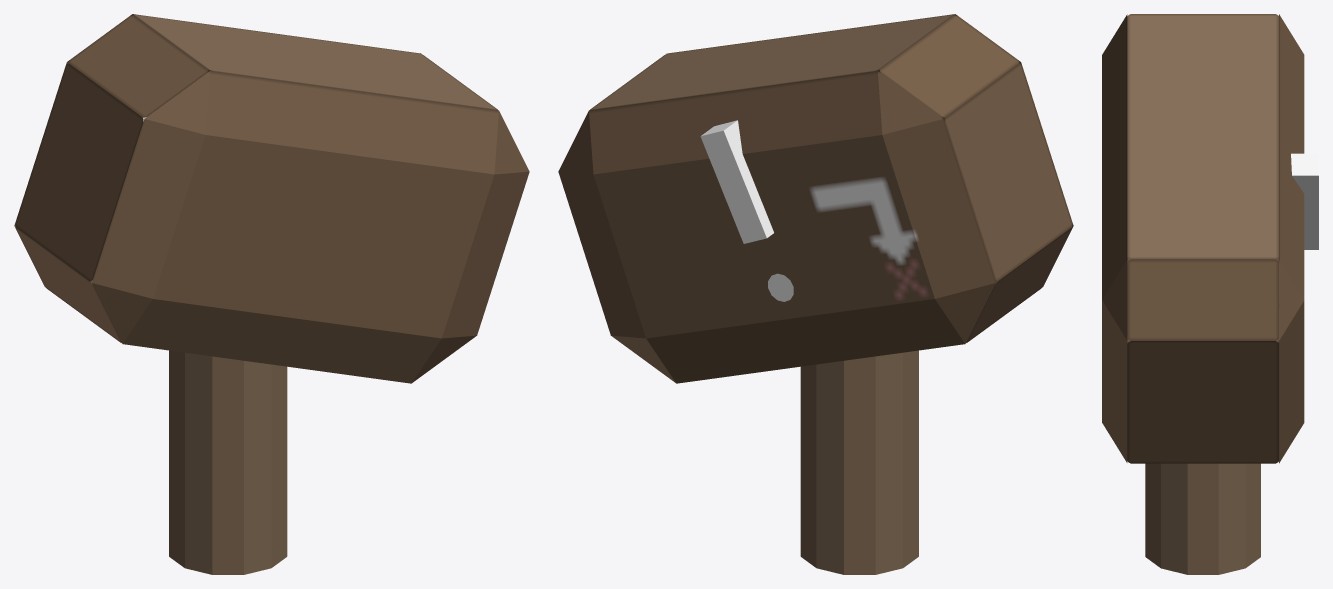
3 renders of one model, left to right at view 1: azimuth 30°, elevation 25°; view 2: azimuth 150°, elevation 25°; view 3: azimuth 270°, elevation 25°, orthographic. The views are drawn at different scales.
Parts seen in each view (by area): view 1: beveled_cuboid, cylinder; view 2: beveled_cuboid, cylinder, mesh; view 3: beveled_cuboid, cylinder, mesh.
Boxes of the visible parts, bbox=[...] form: beveled_cuboid: bbox=[14, 14, 529, 383]; cylinder: bbox=[169, 350, 287, 574]; beveled_cuboid: bbox=[558, 14, 1073, 383]; cylinder: bbox=[800, 350, 918, 574]; mesh: bbox=[700, 120, 773, 243]; beveled_cuboid: bbox=[1102, 14, 1304, 463]; cylinder: bbox=[1145, 463, 1260, 574]; mesh: bbox=[1291, 153, 1318, 249].
Size of the model in its own units: 107 by 122 by 46.88.
Materials: 4 (4 with a texture image).
